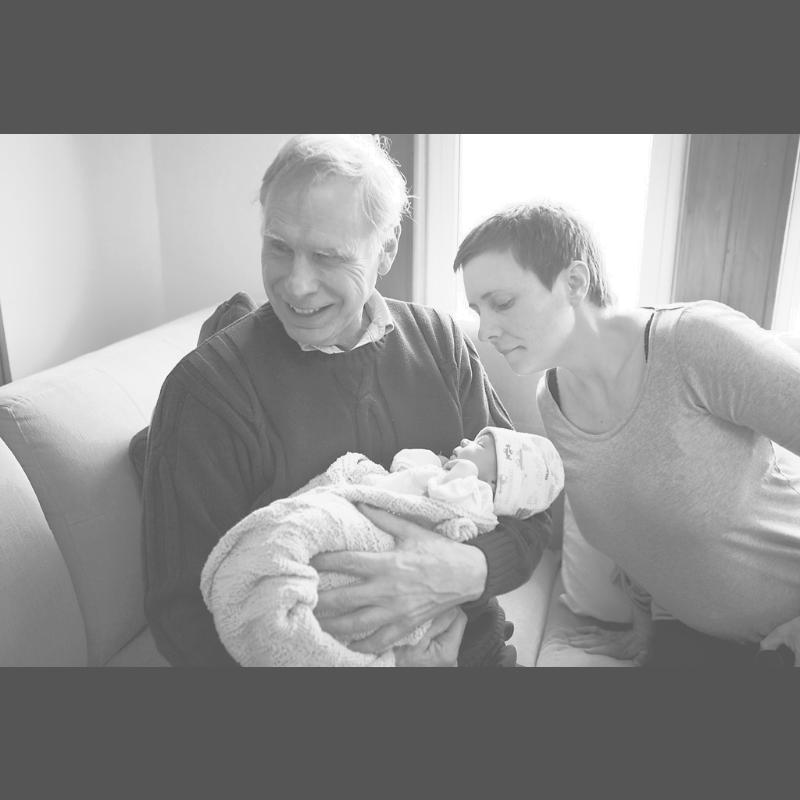pillow: (125, 282, 255, 480), (536, 481, 688, 630)
